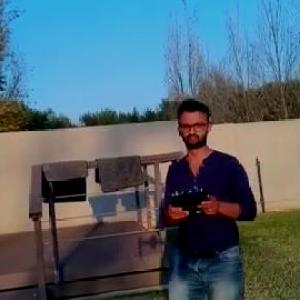follow: (158, 92, 262, 299)
